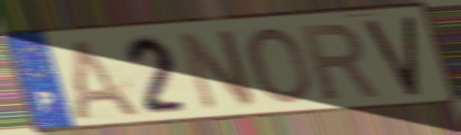2: (123, 29, 199, 120)
A: (68, 35, 146, 119)
N: (175, 26, 260, 114)
O: (246, 24, 316, 107)
R: (296, 21, 383, 103)
V: (361, 12, 422, 99)
